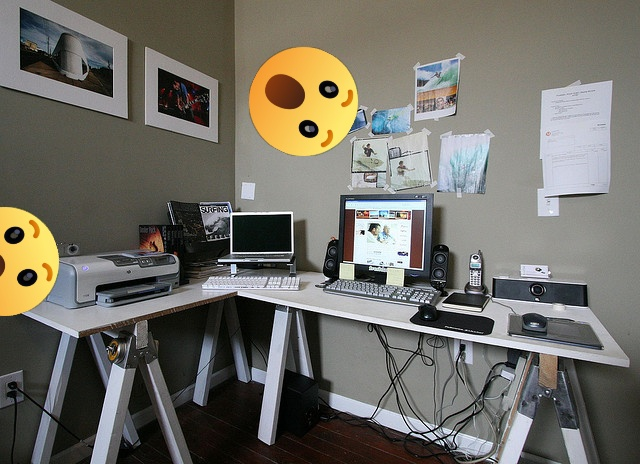wow: (249, 47, 358, 156), (0, 207, 59, 316)
